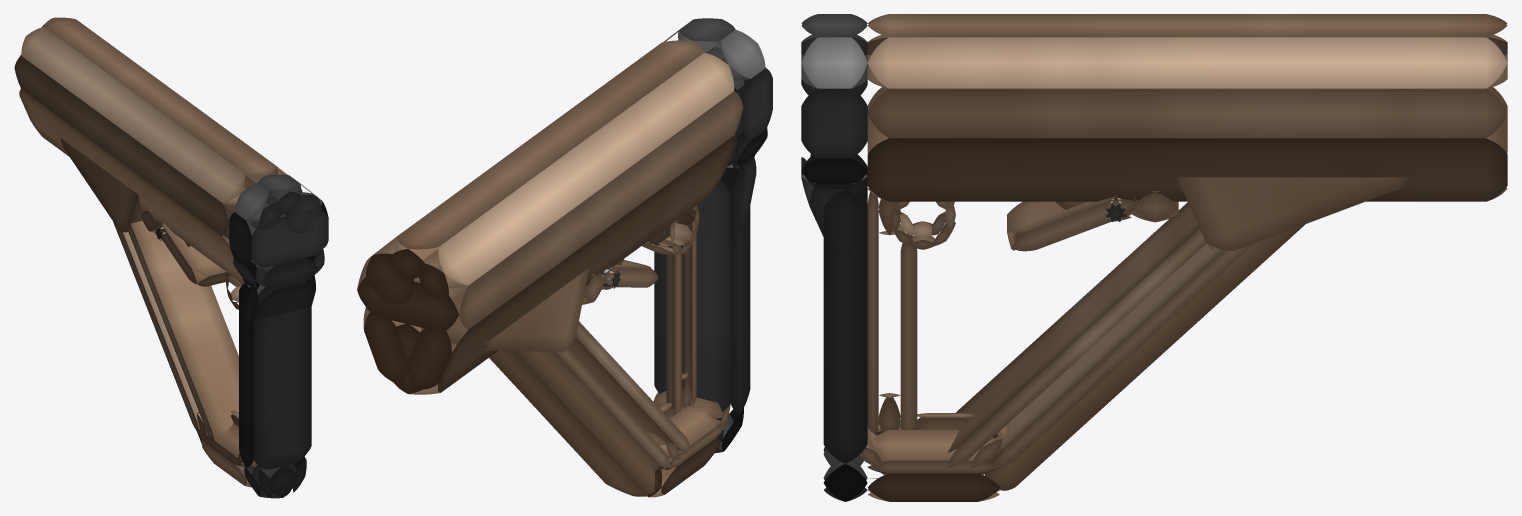
Rendered from udp_9_stock_tactical.fbx.
The picture shows the model from 3 angles, left to right: view 1: azimuth 30°, elevation 25°; view 2: azimuth 150°, elevation 25°; view 3: azimuth 270°, elevation 25°; orthographic projection. The views are drawn at different scales.
Parts seen in each view (by area): view 1: octagon_11, cube_5, octagon_2, octagon_5, octagon_3, cube_1, octagon_9, cube_6, cube_4, octagon_14, cube_10, octagon_10 (+9 smaller); view 2: octagon_2, octagon_5, octagon_11, cube_1, octagon_3, cube_21, cube_6, cube_5, cube_4, octagon_16, cube, octagon_15 (+14 smaller); view 3: cube, octagon_4, octagon_5, octagon_3, cube_5, octagon_11, cube_6, cube_4, cube_21, octagon_9, cube_10, cube_14 (+13 smaller).
Part boxes in pixels (box(x1,y1,x2,y2)): octagon_11: box(239, 270, 311, 469); cube_5: box(128, 220, 238, 440); octagon_2: box(21, 27, 255, 212); octagon_5: box(14, 54, 302, 235); octagon_3: box(41, 17, 276, 192); cube_1: box(19, 88, 267, 283); octagon_9: box(229, 192, 328, 267); cube_6: box(60, 138, 142, 232); cube_4: box(113, 221, 203, 434); octagon_14: box(242, 275, 315, 328); cube_10: box(155, 219, 225, 286); octagon_10: box(243, 255, 318, 290); octagon_2: box(418, 53, 734, 300); octagon_5: box(357, 91, 743, 332); octagon_11: box(654, 167, 750, 413); cube_1: box(407, 134, 736, 392); octagon_3: box(387, 40, 703, 280); cube_21: box(489, 350, 661, 496); cube_6: box(420, 268, 589, 351); cube_5: box(568, 321, 690, 452); cube_4: box(545, 347, 670, 469); octagon_16: box(666, 245, 681, 414); cube: box(363, 307, 421, 384); octagon_15: box(683, 210, 696, 405); cube: box(867, 138, 1507, 201); octagon_4: box(867, 37, 1507, 88); octagon_5: box(867, 34, 1507, 138); octagon_3: box(868, 14, 1507, 60); cube_5: box(947, 202, 1206, 467); octagon_11: box(823, 154, 867, 463); cube_6: box(1176, 177, 1408, 250); cube_4: box(994, 243, 1252, 467); cube_21: box(985, 224, 1305, 490); octagon_9: box(801, 35, 867, 158); cube_10: box(1007, 195, 1137, 251); cube_14: box(868, 473, 999, 501).
Size of the model in its own units: 9.38 by 36.3 by 50.
1 material, 1 textured.
